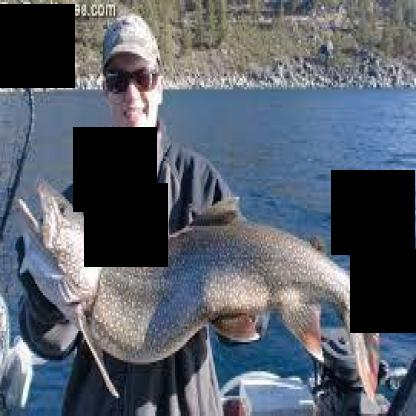fish: (13, 174, 414, 398)
